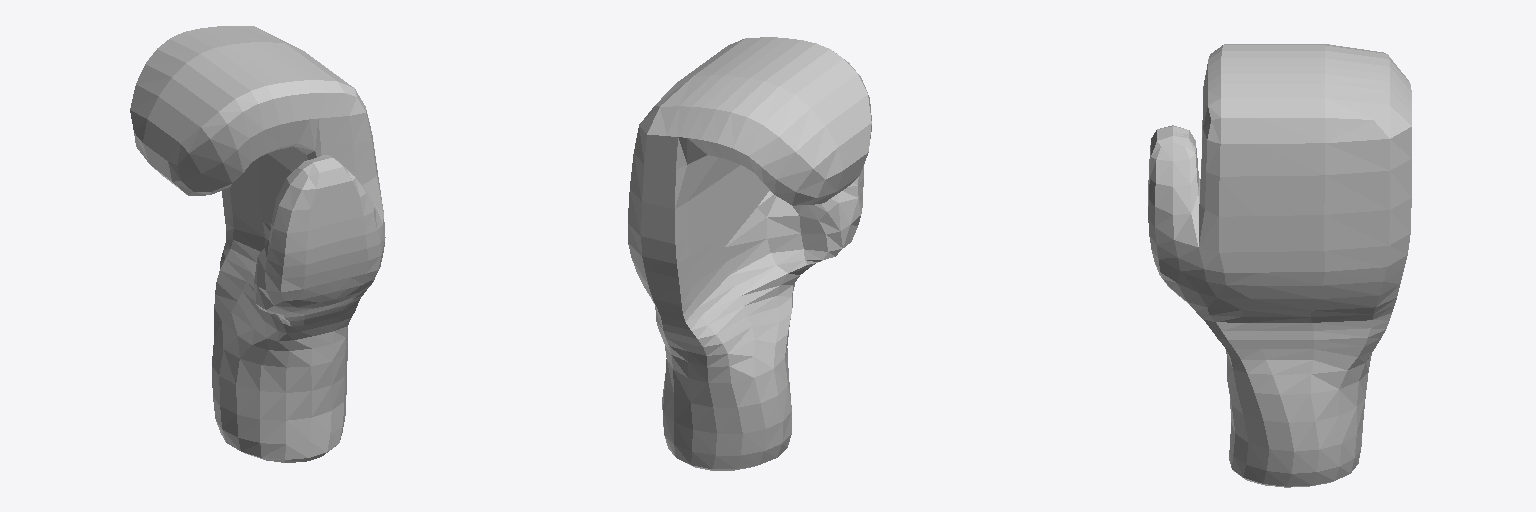
Rendered from bxglvsp(right).obj.
3 renders of one model, left to right at view 1: azimuth 30°, elevation 25°; view 2: azimuth 150°, elevation 25°; view 3: azimuth 270°, elevation 25°, orthographic.
Parts seen in each view (by area): view 1: Cube.015_Cube.017; view 2: Cube.015_Cube.017; view 3: Cube.015_Cube.017.
Part boxes in pixels (x1,y1,x2,y2): Cube.015_Cube.017: (130, 26, 385, 462); Cube.015_Cube.017: (628, 37, 871, 470); Cube.015_Cube.017: (1148, 44, 1411, 487).
Bounding box in the file's own units: 4.36 × 8.65 × 5.27.